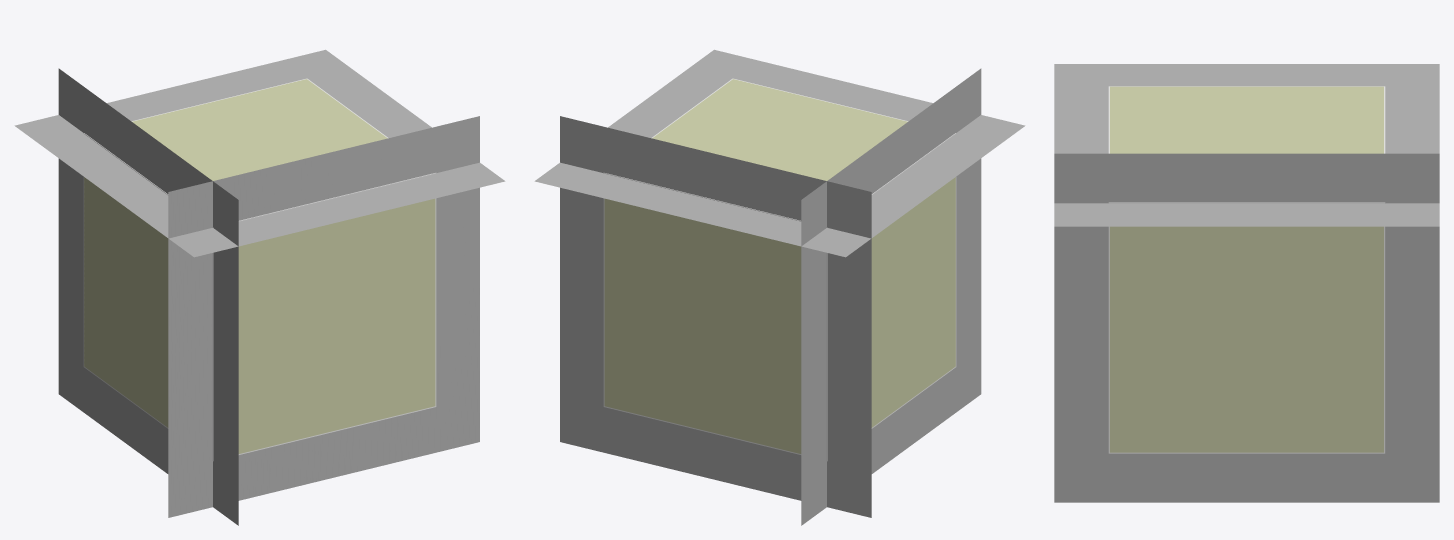
3 views of the same model, side by side, from view 1: azimuth 30°, elevation 25°; view 2: azimuth 150°, elevation 25°; view 3: azimuth 270°, elevation 25° (orthographic). The views are drawn at different scales.
Visible parts, largest first — view 1: box, boxm, boxf; view 2: box, boxm, boxf; view 3: box, boxm, boxf.
Boxes of the visible parts, x1,y1,x2,y2 form: box: (14, 49, 505, 525); boxm: (84, 79, 435, 453); boxf: (83, 78, 436, 461); box: (534, 49, 1025, 525); boxm: (604, 79, 955, 453); boxf: (603, 78, 956, 461); box: (1054, 64, 1439, 502); boxm: (1110, 86, 1383, 452); boxf: (1108, 86, 1385, 453).
Size of the model in its own units: 11.2 by 11.2 by 11.2.
Materials: 4 (2 with a texture image).
